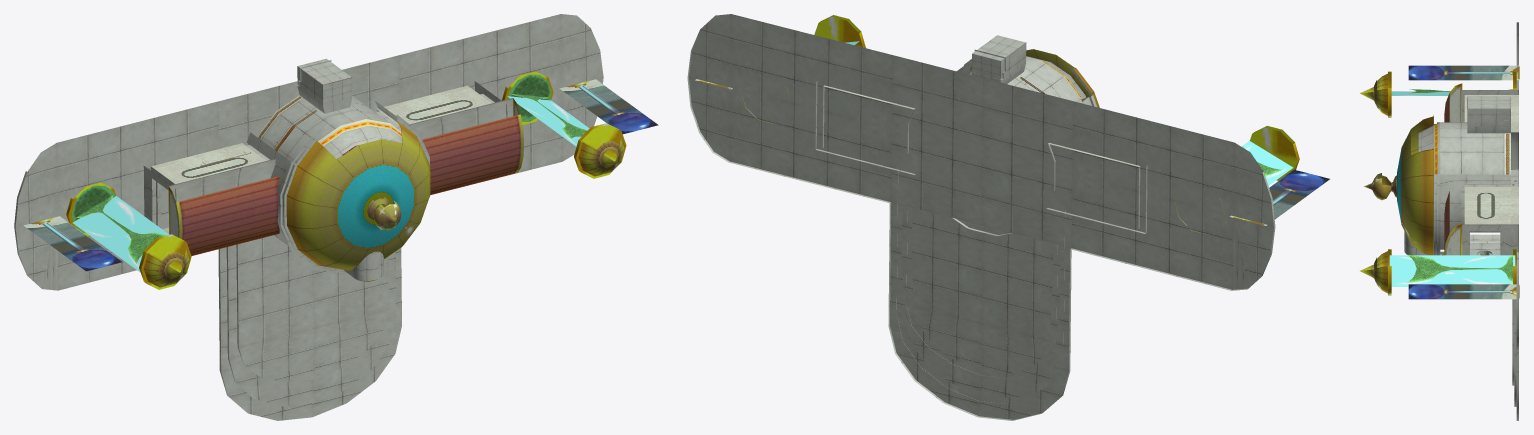
Rendered from hyperbolic_time_chamber_ef6155.glb.
3 renders of one model, left to right at view 1: azimuth 30°, elevation 25°; view 2: azimuth 150°, elevation 25°; view 3: azimuth 270°, elevation 25°, orthographic. The views are drawn at different scales.
Parts seen in each view (by area): view 1: Object_4, Object_8, Object_6, Object_9, Object_5, Object_3; view 2: Object_4, Object_8, Object_6; view 3: Object_4, Object_8, Object_6, Object_5, Object_9, Object_3.
Part boxes in pixels (box(x1,y1,x2,y2)): Object_4: box(14, 14, 603, 420); Object_8: box(66, 71, 626, 289); Object_6: box(23, 79, 658, 271); Object_9: box(72, 74, 551, 236); Object_5: box(75, 93, 587, 263); Object_3: box(367, 197, 401, 229); Object_4: box(687, 14, 1275, 420); Object_8: box(740, 15, 1299, 234); Object_6: box(695, 56, 1329, 225); Object_4: box(1404, 22, 1518, 420); Object_8: box(1360, 71, 1516, 295); Object_6: box(1408, 65, 1519, 299); Object_5: box(1406, 89, 1512, 282); Object_9: box(1440, 87, 1487, 255); Object_3: box(1364, 173, 1396, 200).
Size of the model in its own units: 366 by 214 by 101.
Materials: 9 (9 with a texture image).
